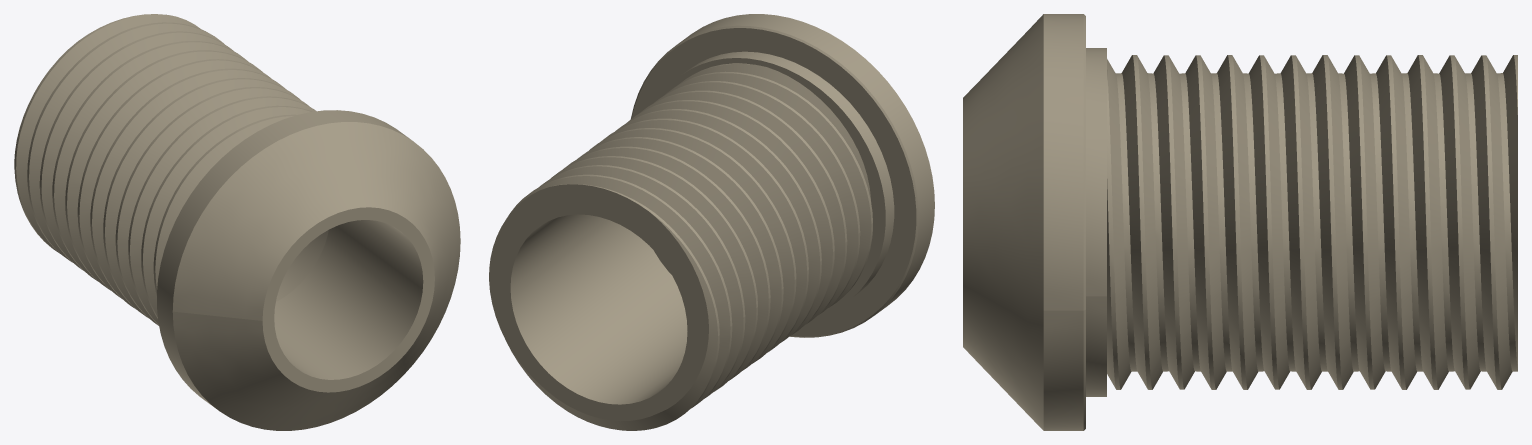
Rendered from bezel.glb.
The picture shows the model from 3 angles, left to right: view 1: azimuth 30°, elevation 25°; view 2: azimuth 150°, elevation 25°; view 3: azimuth 270°, elevation 25°; orthographic projection. The views are drawn at different scales.
Visible parts, largest first — view 1: 5mm led bezel v1; view 2: 5mm led bezel v1; view 3: 5mm led bezel v1.
Part boxes in pixels (x1,y1,x2,y2): 5mm led bezel v1: (14, 14, 460, 430); 5mm led bezel v1: (489, 14, 934, 430); 5mm led bezel v1: (963, 14, 1517, 430).
Size of the model in its own units: 9.85 by 9.85 by 13.1.
